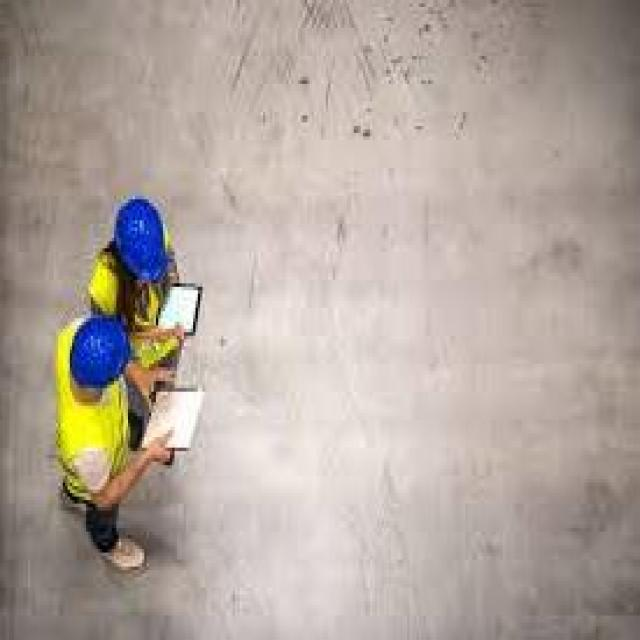Reflective-Jacket: (40, 318, 142, 518), (79, 238, 133, 325)
Safety-Helmet: (105, 186, 179, 290), (65, 308, 135, 392)
